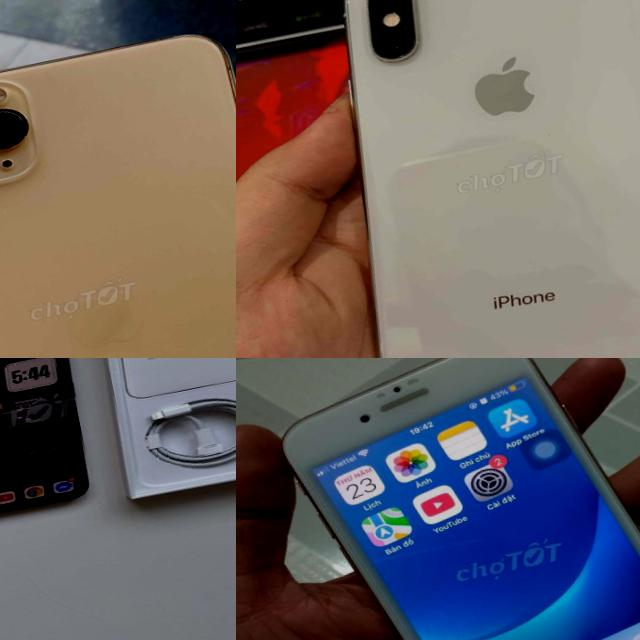scratch: (384, 43, 426, 64), (407, 34, 430, 52)
